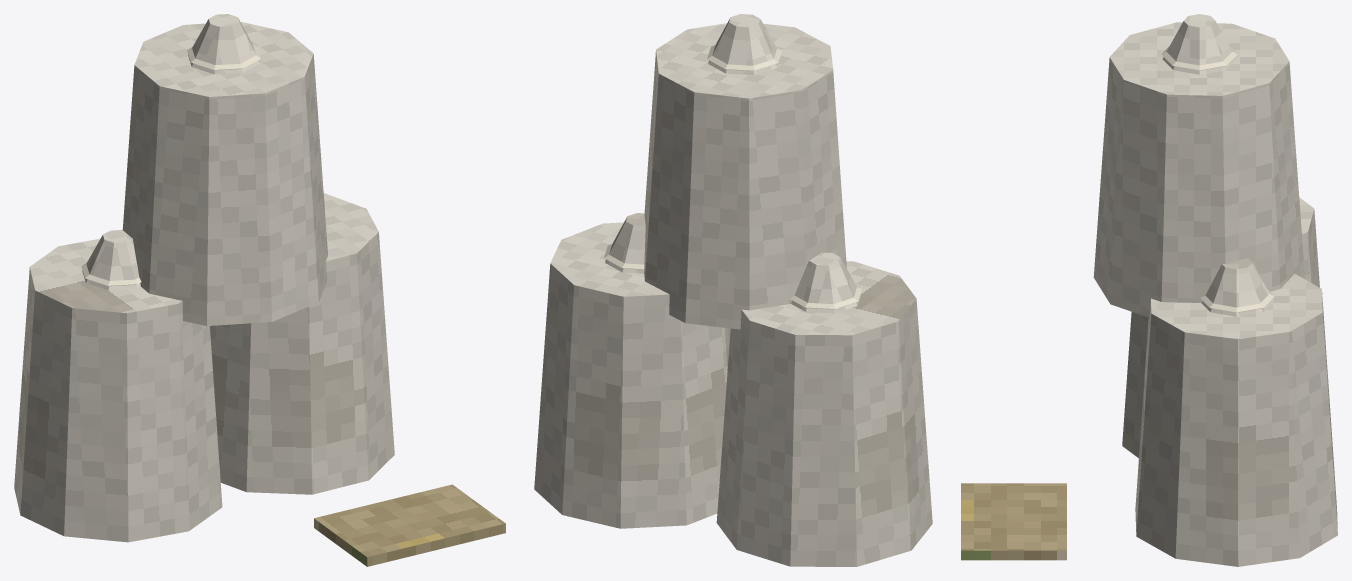
Rendered from sacks.obj.
The picture shows the model from 3 angles, left to right: view 1: azimuth 30°, elevation 25°; view 2: azimuth 150°, elevation 25°; view 3: azimuth 270°, elevation 25°; orthographic projection.
Parts seen in each view (by area): view 1: sacks; view 2: sacks; view 3: sacks.
Part boxes in pixels (bbox=[...]): sacks: bbox=[14, 14, 505, 566]; sacks: bbox=[534, 14, 932, 566]; sacks: bbox=[961, 14, 1337, 566].
Size of the model in its own units: 0.7787 by 0.96 by 0.7111.
